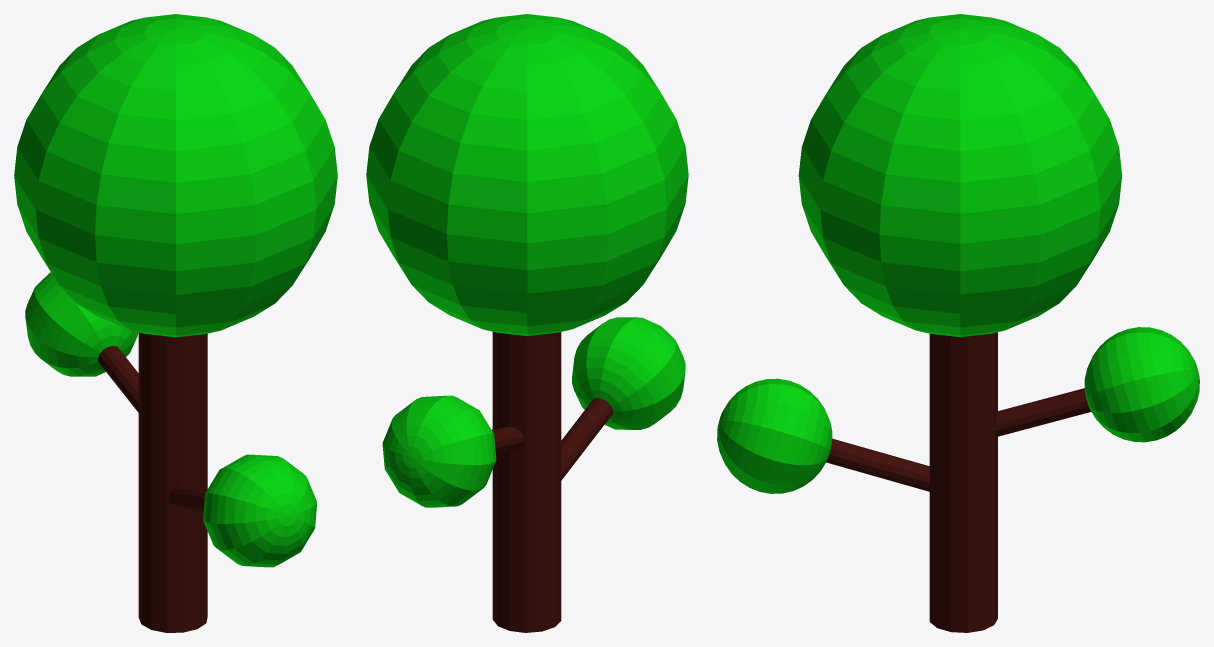
Rendered from smoltree.fbx.
3 views of the same model, side by side, from view 1: azimuth 30°, elevation 25°; view 2: azimuth 150°, elevation 25°; view 3: azimuth 270°, elevation 25° (orthographic).
Parts seen in each view (by area): view 1: Cylinder; view 2: Cylinder; view 3: Cylinder.
Boxes of the visible parts, x1=… form: Cylinder: x1=14, y1=14, x2=337, y2=632; Cylinder: x1=366, y1=14, x2=688, y2=632; Cylinder: x1=717, y1=14, x2=1199, y2=632.
Size of the model in its own units: 200 by 402 by 298.
